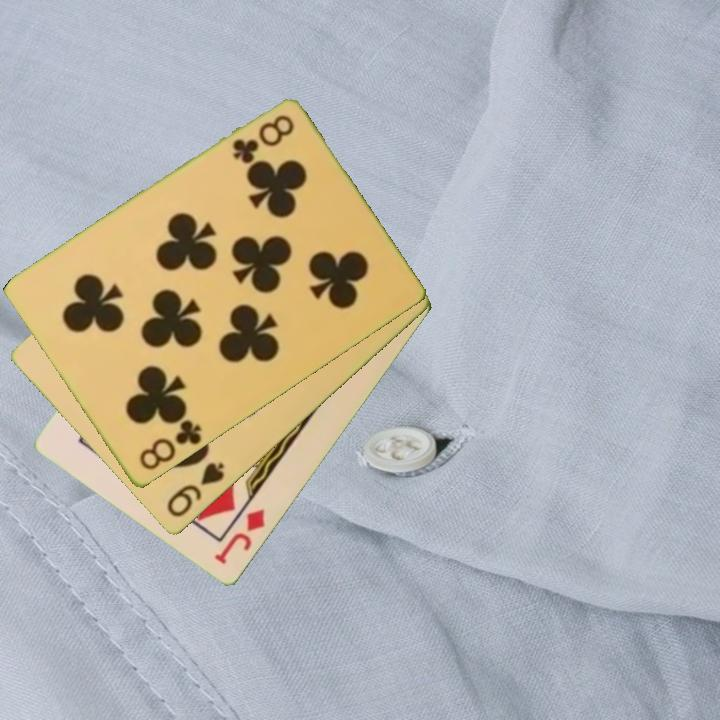8c: (135, 416, 205, 474), (228, 111, 298, 167)
9s: (163, 459, 228, 521)
Jd: (211, 505, 268, 568)
